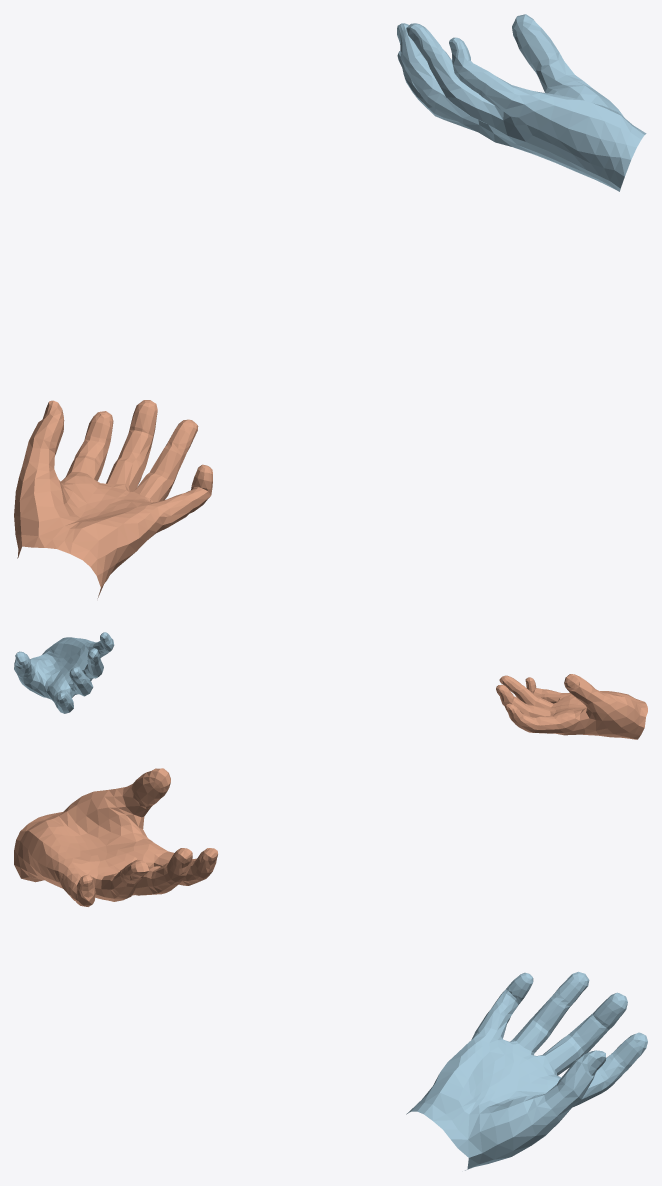
The model's file is frame_028.glb.
3 renders of one model, top to bottom at view 1: azimuth 30°, elevation 25°; view 2: azimuth 150°, elevation 25°; view 3: azimuth 270°, elevation 25°, orthographic. The views are drawn at different scales.
Parts seen in each view (by area): view 1: world; view 2: world; view 3: world.
Boxes of the visible parts, x1,y1,x2,y2 form: world: (14, 14, 646, 598); world: (14, 632, 647, 739); world: (14, 768, 647, 1170).
Size of the model in its own units: 0.5578 by 0.1363 by 0.3995.
